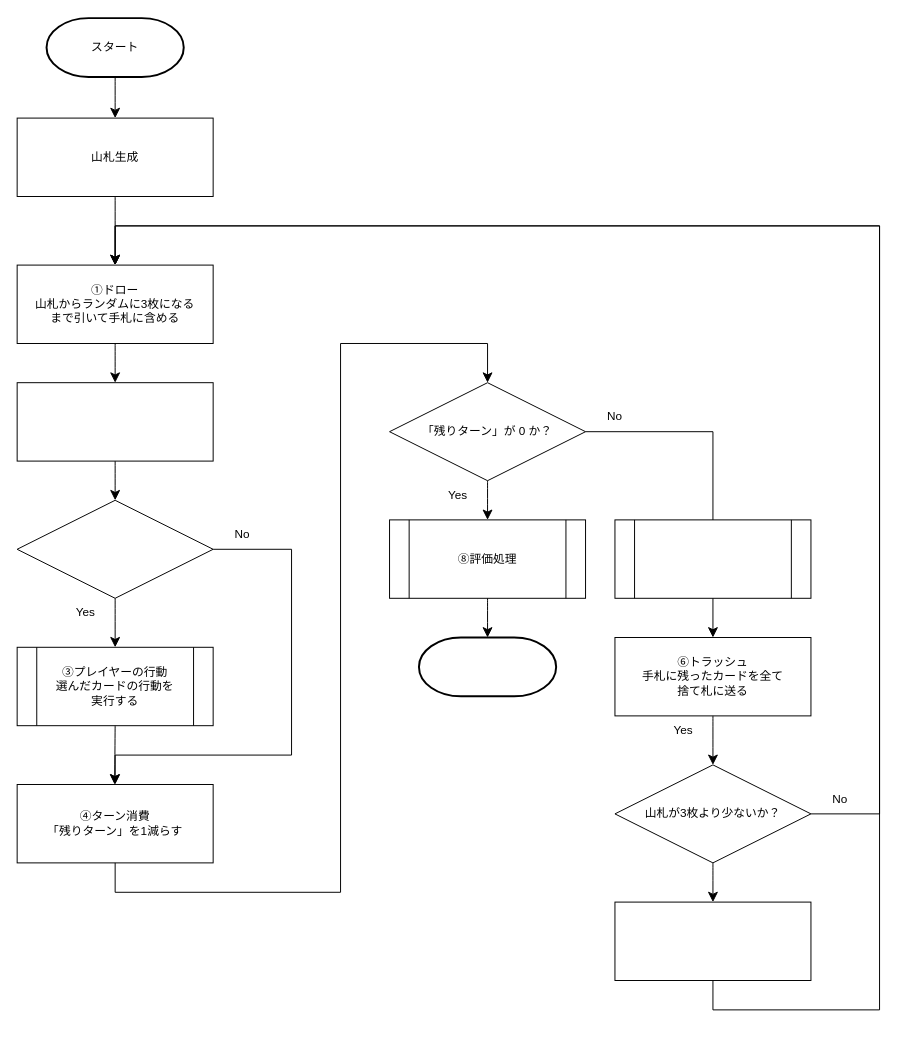
This 907x1037 diagram has some shape labels left out. The shapes that lost their labels are listed below. From the top down, each one's centre as x and y in pixels, then its label:
At (114,421): "②プレイ 手札から1枚選択して場に出す".
At (114,548): "パスを選択していないか？".
At (712,558): "⑤敵の行動 敵事の行動を 実行する".
At (487,666): "終了".
At (712,940): "⑦山札リセット 山札のカードを全て手札に送り、 捨て札を全て山札に送る".
